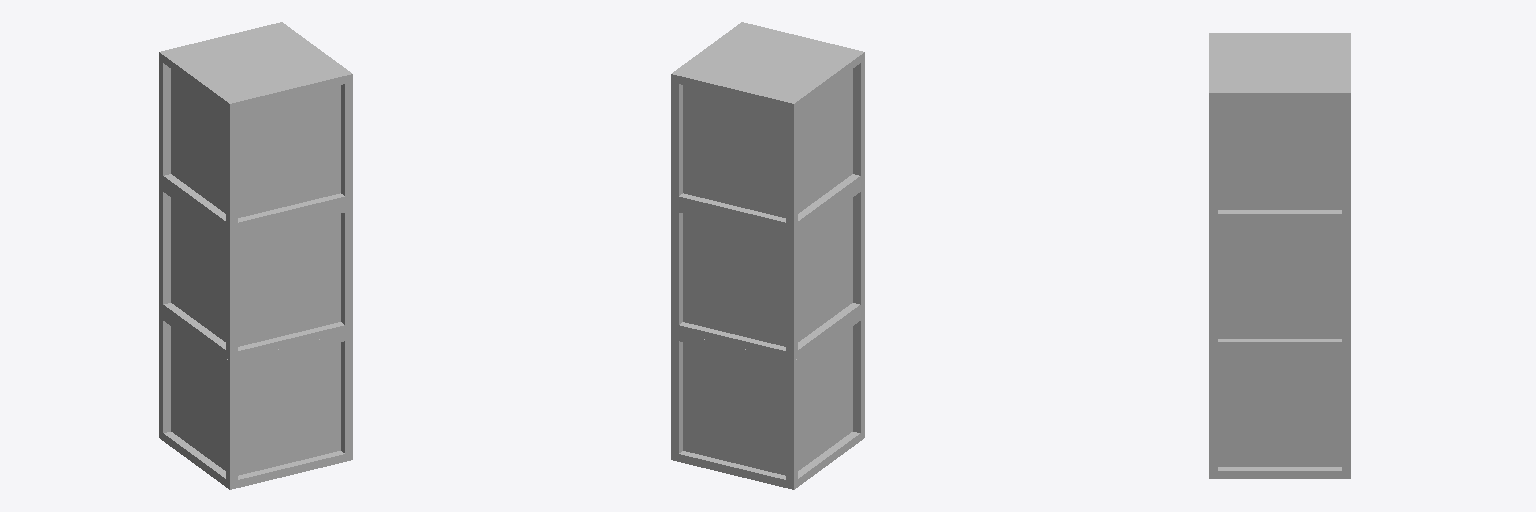
Rendered from eleSideConsoles.obj.
3 views of the same model, side by side, from view 1: azimuth 30°, elevation 25°; view 2: azimuth 150°, elevation 25°; view 3: azimuth 270°, elevation 25° (orthographic).
Size of the model in its own units: 1.99 by 5.98 by 1.99.